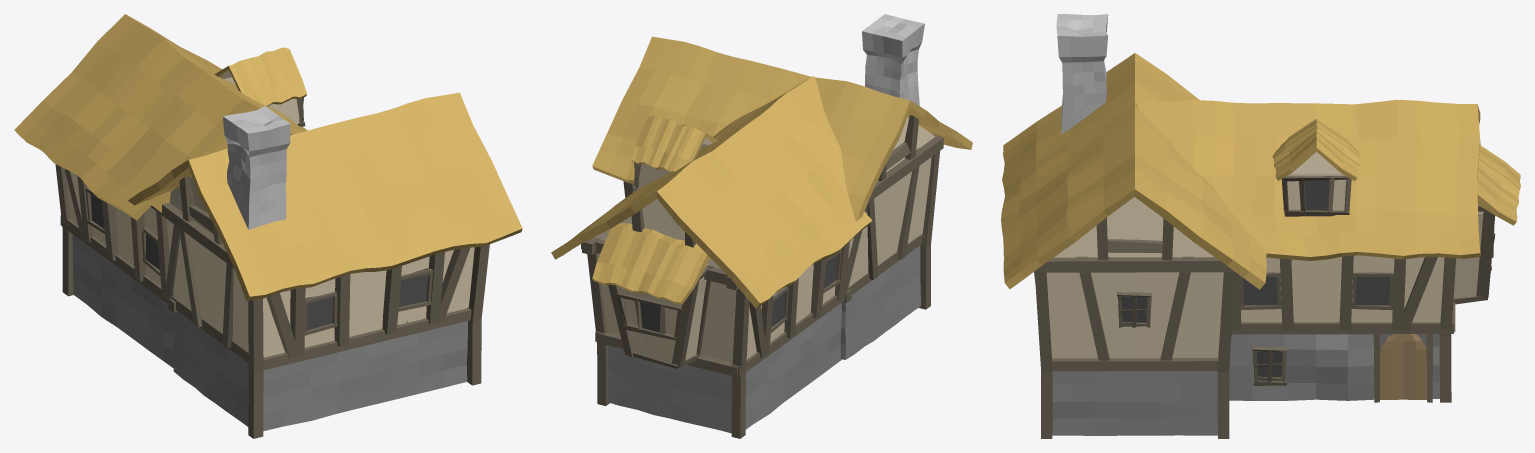
Rendered from Grande_maison.fbx.
3 views of the same model, side by side, from view 1: azimuth 30°, elevation 25°; view 2: azimuth 150°, elevation 25°; view 3: azimuth 270°, elevation 25° (orthographic). The views are drawn at different scales.
Visible parts, largest first — view 1: Plan.029; view 2: Plan.029; view 3: Plan.029.
Part boxes in pixels (box(x1,y1,x2,y2)): Plan.029: box(14, 14, 522, 438); Plan.029: box(551, 14, 972, 438); Plan.029: box(1001, 14, 1520, 438).
Bounding box in the file's own units: 923 × 938 × 1414.
